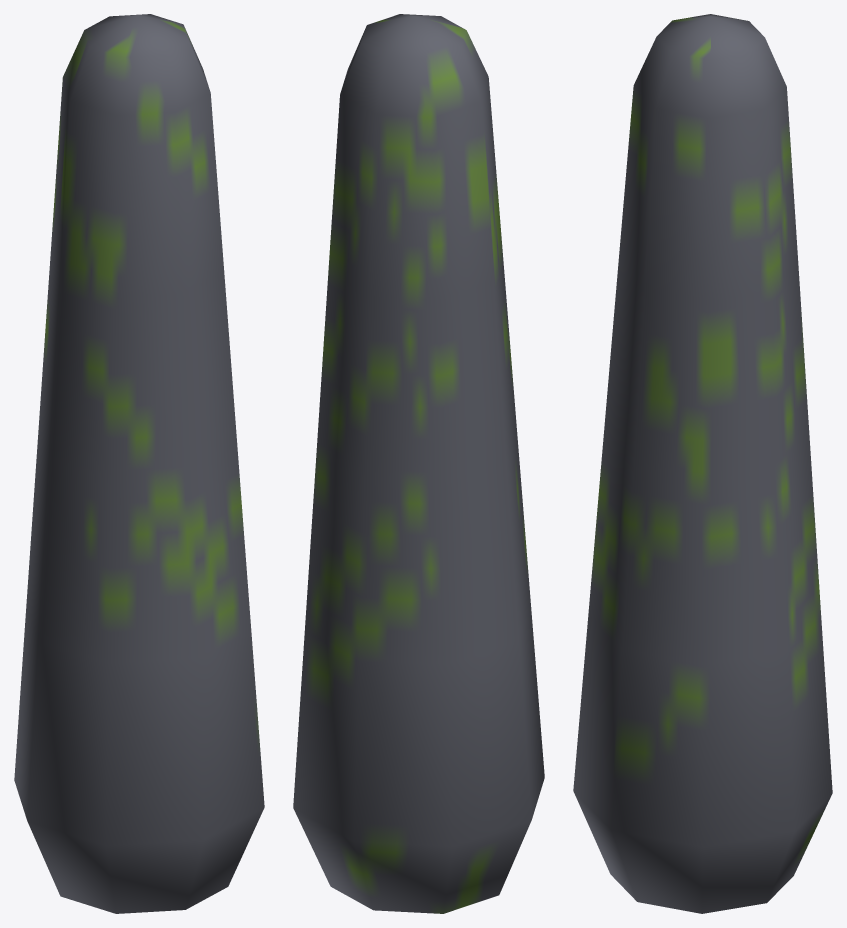
Rendered from prop_menhirtrue_609a.glb.
3 views of the same model, side by side, from view 1: azimuth 30°, elevation 25°; view 2: azimuth 150°, elevation 25°; view 3: azimuth 270°, elevation 25° (orthographic).
Parts seen in each view (by area): view 1: prop_menhirtrue_609a; view 2: prop_menhirtrue_609a; view 3: prop_menhirtrue_609a.
Boxes of the visible parts, x1,y1,x2,y2 form: prop_menhirtrue_609a: [14, 14, 264, 913]; prop_menhirtrue_609a: [293, 14, 544, 913]; prop_menhirtrue_609a: [573, 14, 832, 913].
Size of the model in its own units: 0.389 by 1.48 by 0.389.
Materials: 1 (1 with a texture image).
